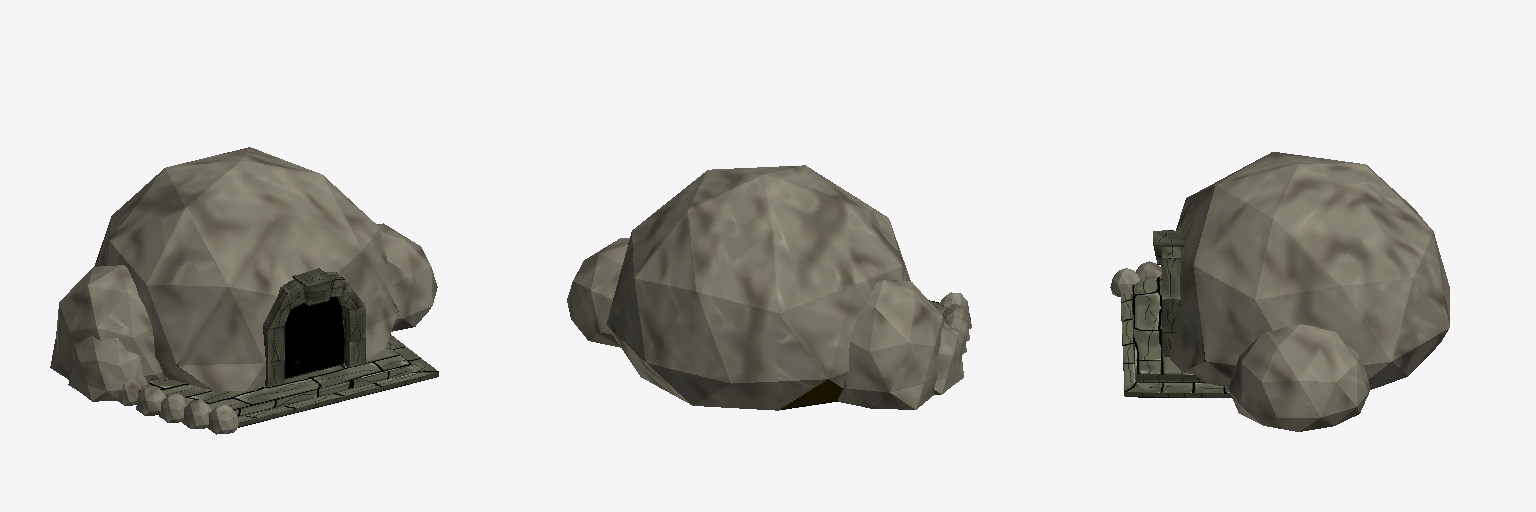
3 renders of one model, left to right at view 1: azimuth 30°, elevation 25°; view 2: azimuth 150°, elevation 25°; view 3: azimuth 270°, elevation 25°, orthographic.
Parts seen in each view (by area): view 1: Plane.001_Plane.002; view 2: Plane.001_Plane.002; view 3: Plane.001_Plane.002.
Part boxes in pixels (left/top/right/bottom): Plane.001_Plane.002: left=50, top=147, right=438, bottom=434; Plane.001_Plane.002: left=567, top=165, right=971, bottom=410; Plane.001_Plane.002: left=1110, top=152, right=1449, bottom=431.
Size of the model in its own units: 2.82 by 1.34 by 2.29.
Materials: 1 (1 with a texture image).